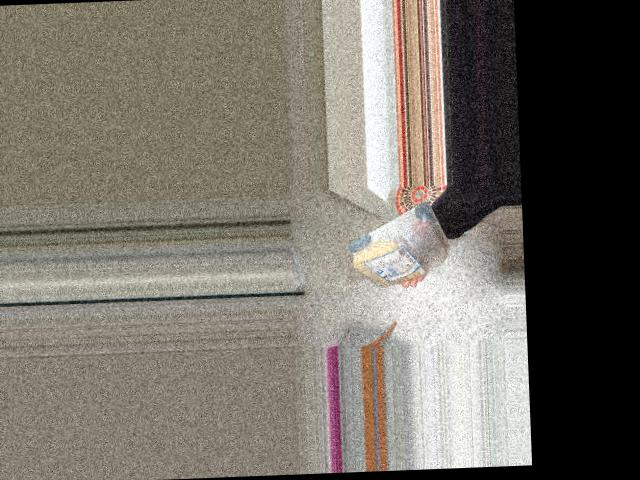cheese: (342, 202, 466, 290)
